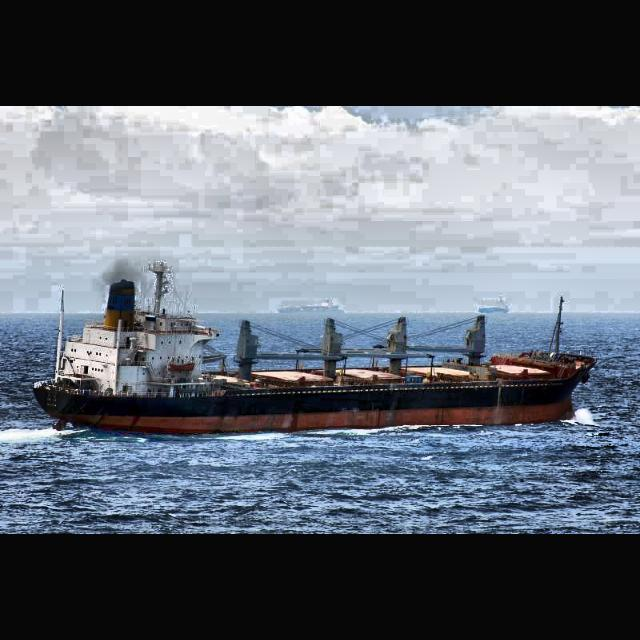bulk_carrier: (32, 257, 598, 438)
